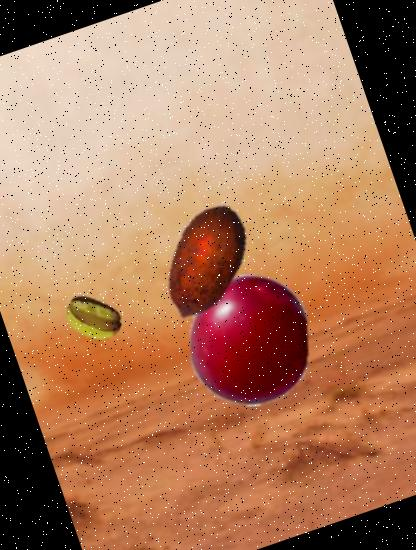Carambula: (57, 282, 131, 356)
Cherry: (166, 256, 334, 424)
Nut: (128, 184, 283, 338)
